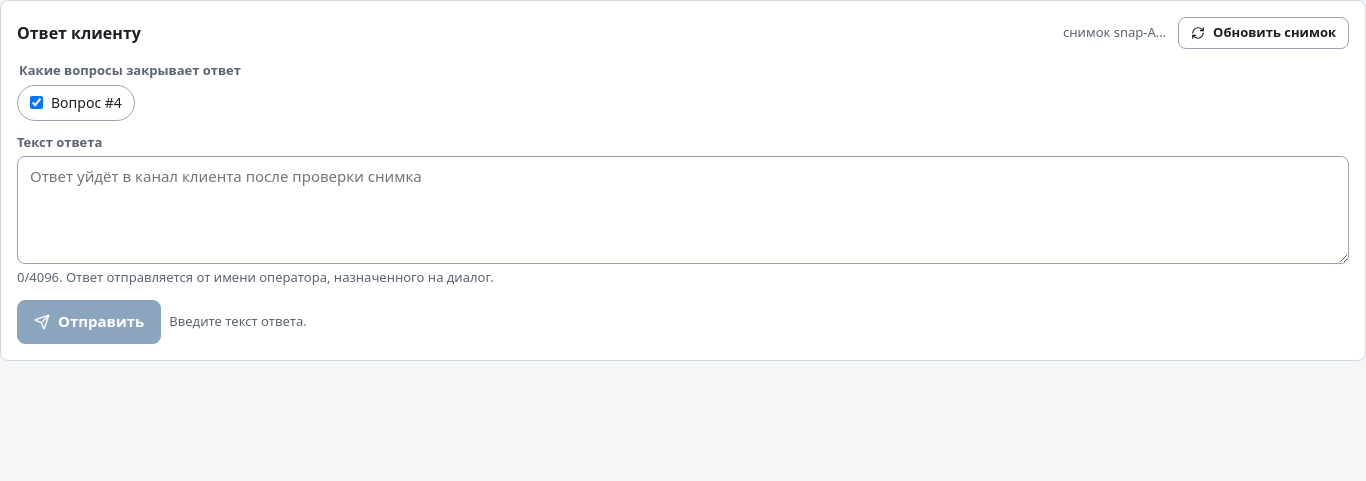
Test: форма ответа › не выдаёт 202 за доставку: показывает ожидание подтверждения
Type "Проверка статуса" into the text box labelled "Текст ответа" at (683, 210), box 17,156 -> 1349,264
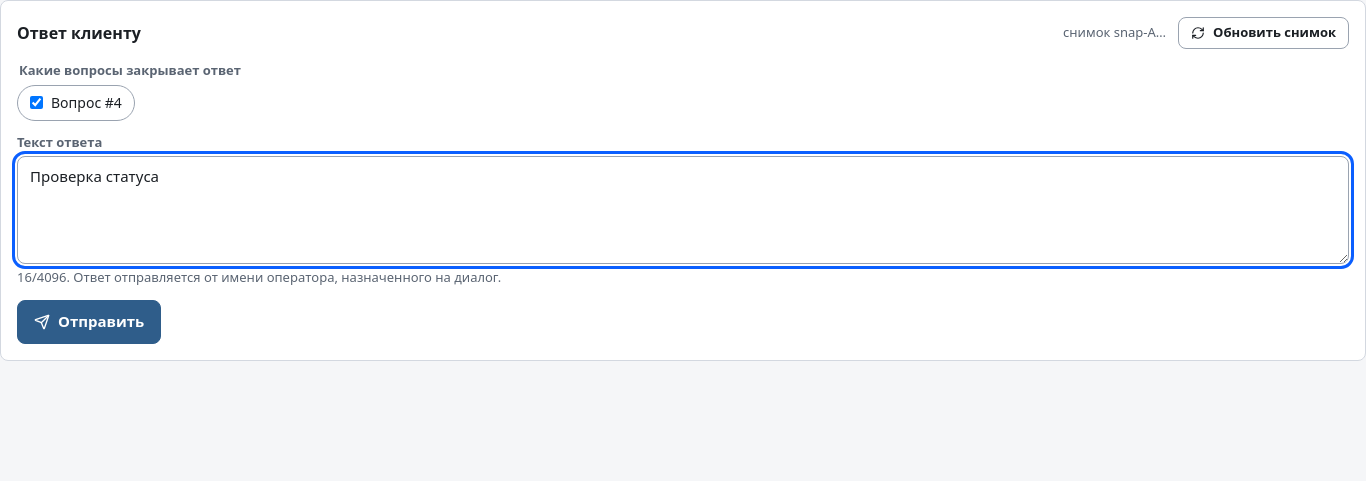
Click the button "Отправить" at (89, 322), box 17,300 -> 161,344
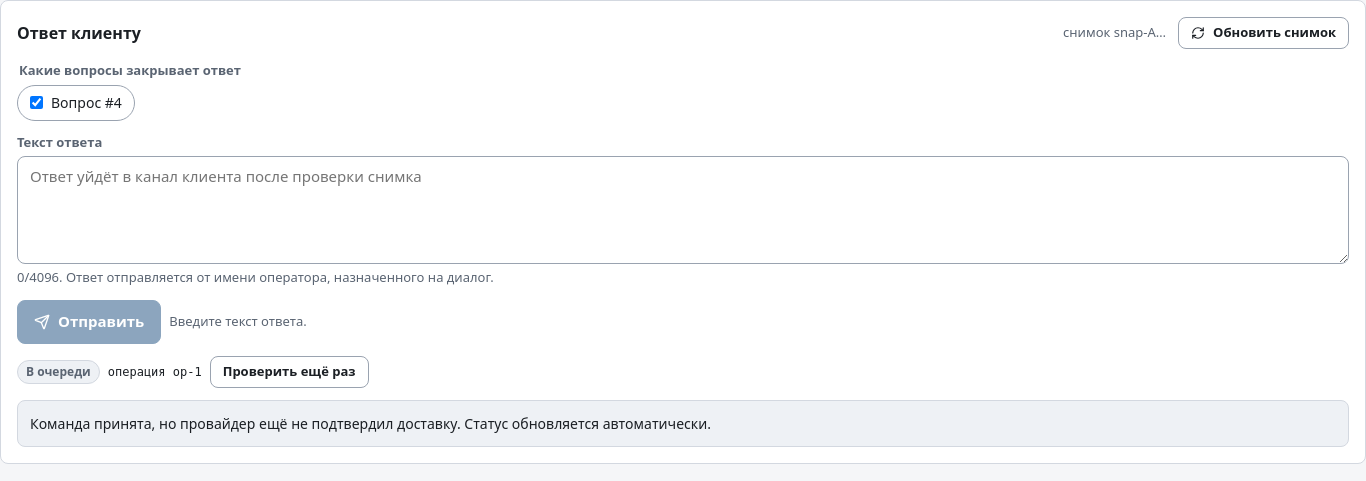
expect the text "провайдер ещё не подтвердил доставку" is shown: met, box 30,414 -> 711,432
